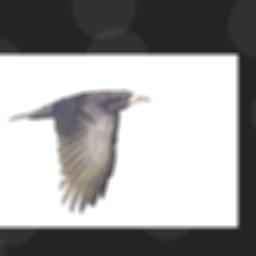Crow: (9, 89, 152, 211)
